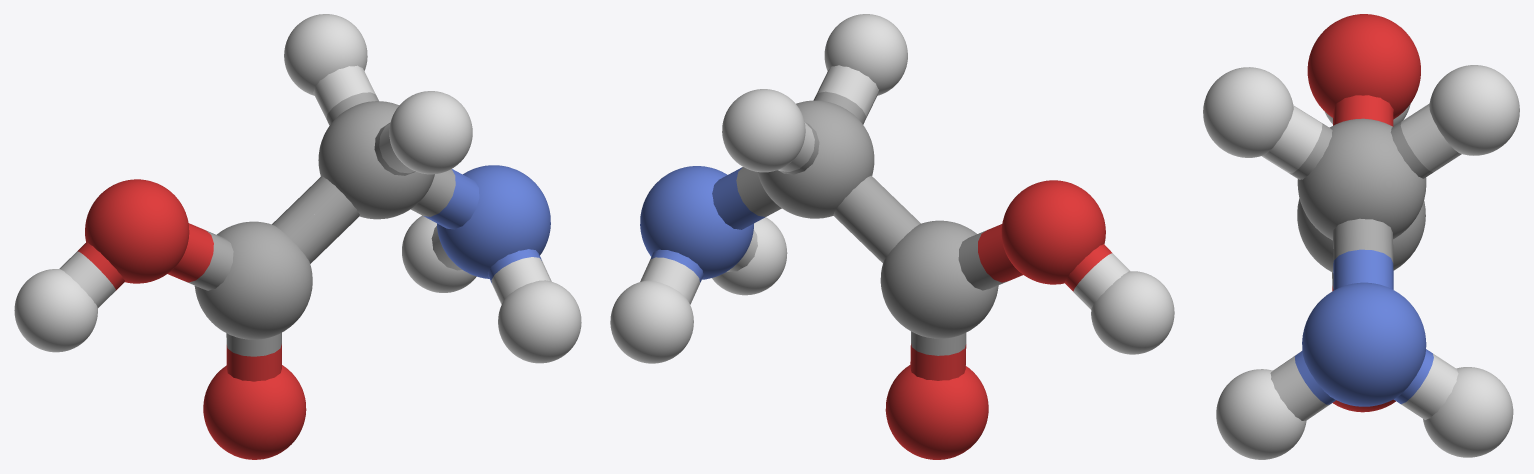
Rendered from glycine.glb.
3 renders of one model, left to right at view 1: azimuth 30°, elevation 25°; view 2: azimuth 150°, elevation 25°; view 3: azimuth 270°, elevation 25°, orthographic. The views are drawn at different scales.
Visible parts, largest first — view 1: atoms, bonds; view 2: atoms, bonds; view 3: atoms, bonds.
Part boxes in pixels (bbox=[...]): atoms: bbox=[14, 14, 581, 459]; bonds: bbox=[59, 65, 551, 381]; atoms: bbox=[610, 14, 1174, 459]; bonds: bbox=[640, 65, 1129, 380]; atoms: bbox=[1203, 14, 1519, 459]; bonds: bbox=[1261, 95, 1461, 420].
Bounding box in the file's own units: 5.2 × 3.52 × 2.51.
